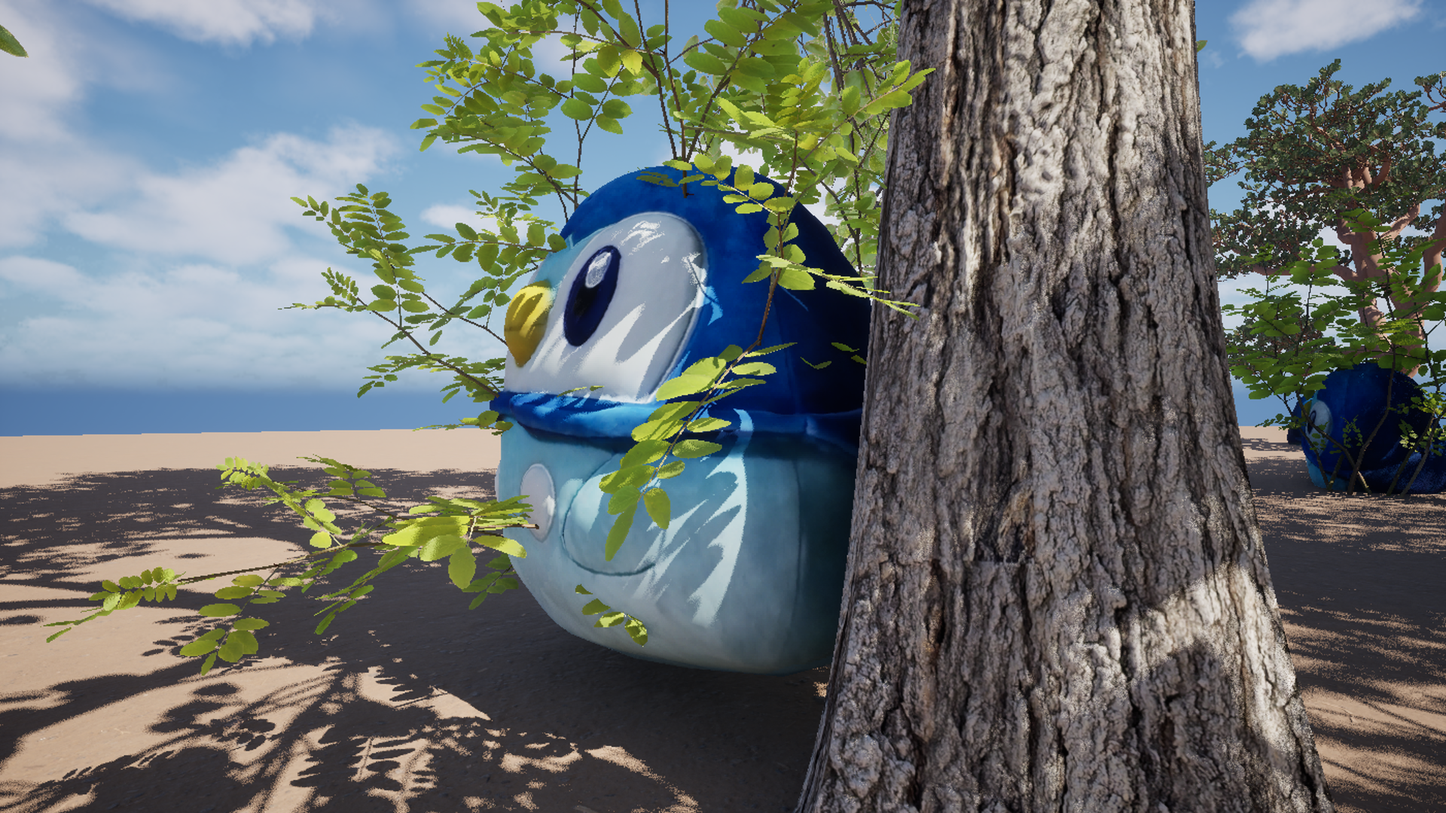Piplup: (391, 0, 1132, 813)
